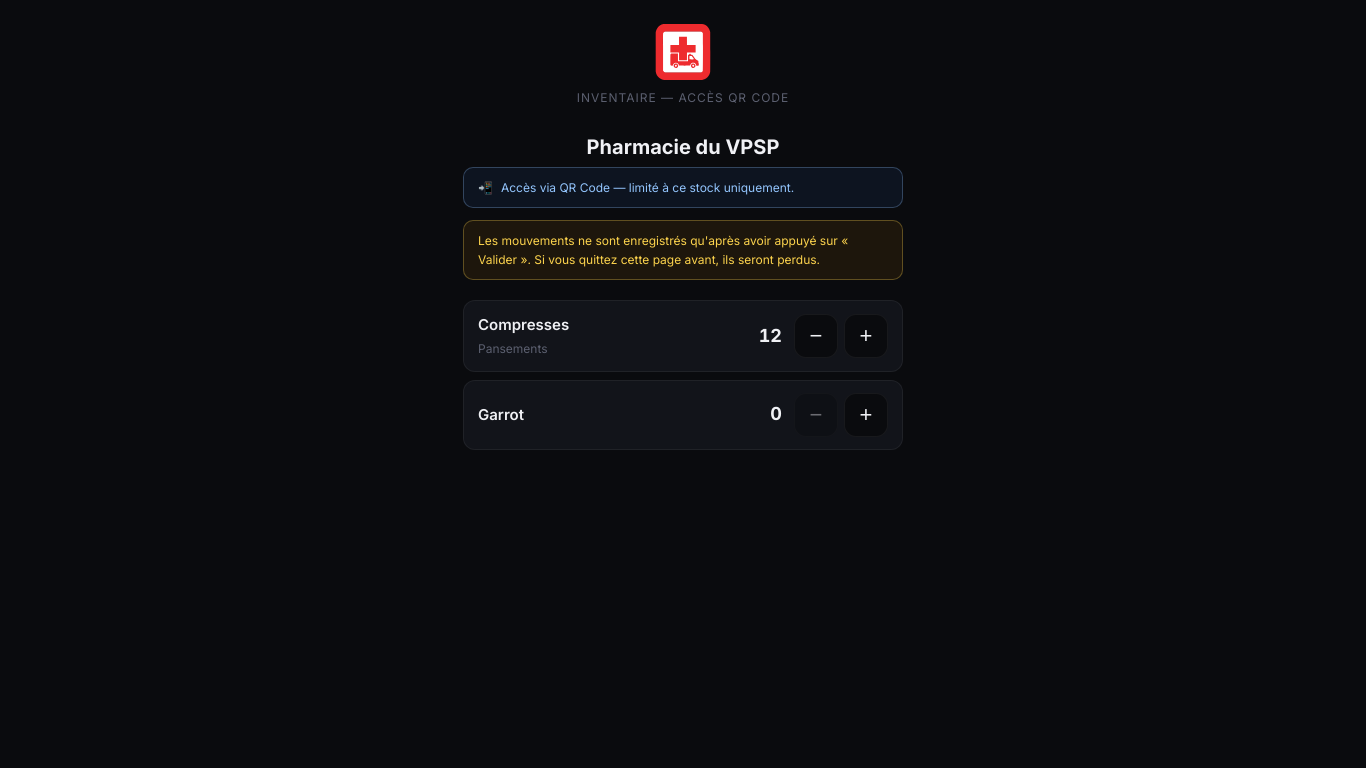
Test: QRStockPage › retire un seul mouvement du récapitulatif et laisse les autres (AC-I5)
Check: the heading "Pharmacie du VPSP" is shown, box [587,135,779,159]
Click the button named "Retirer une unité de Compresses". click: (816, 336)
box: [794,314,838,358]
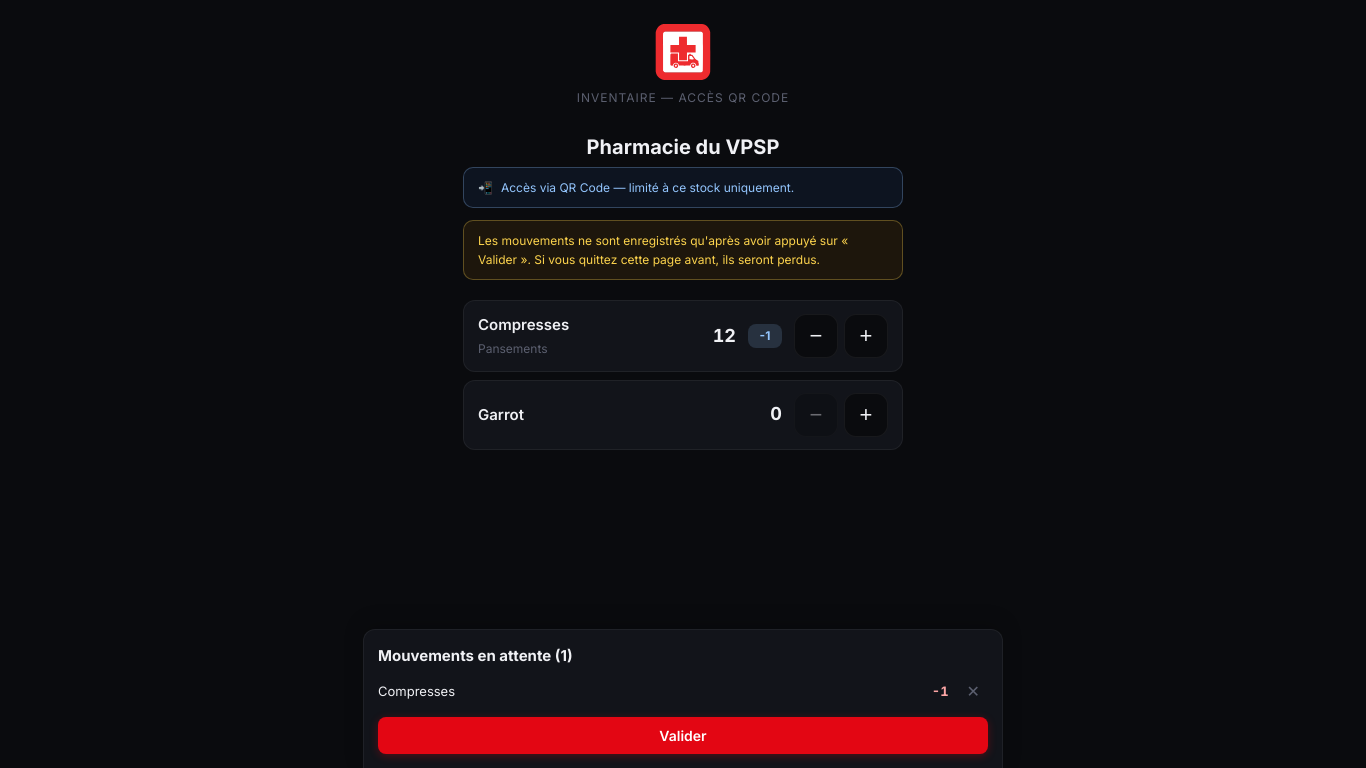
Click the button named "Ajouter une unité de Garrot". click: (866, 414)
box: [844,392,888,436]
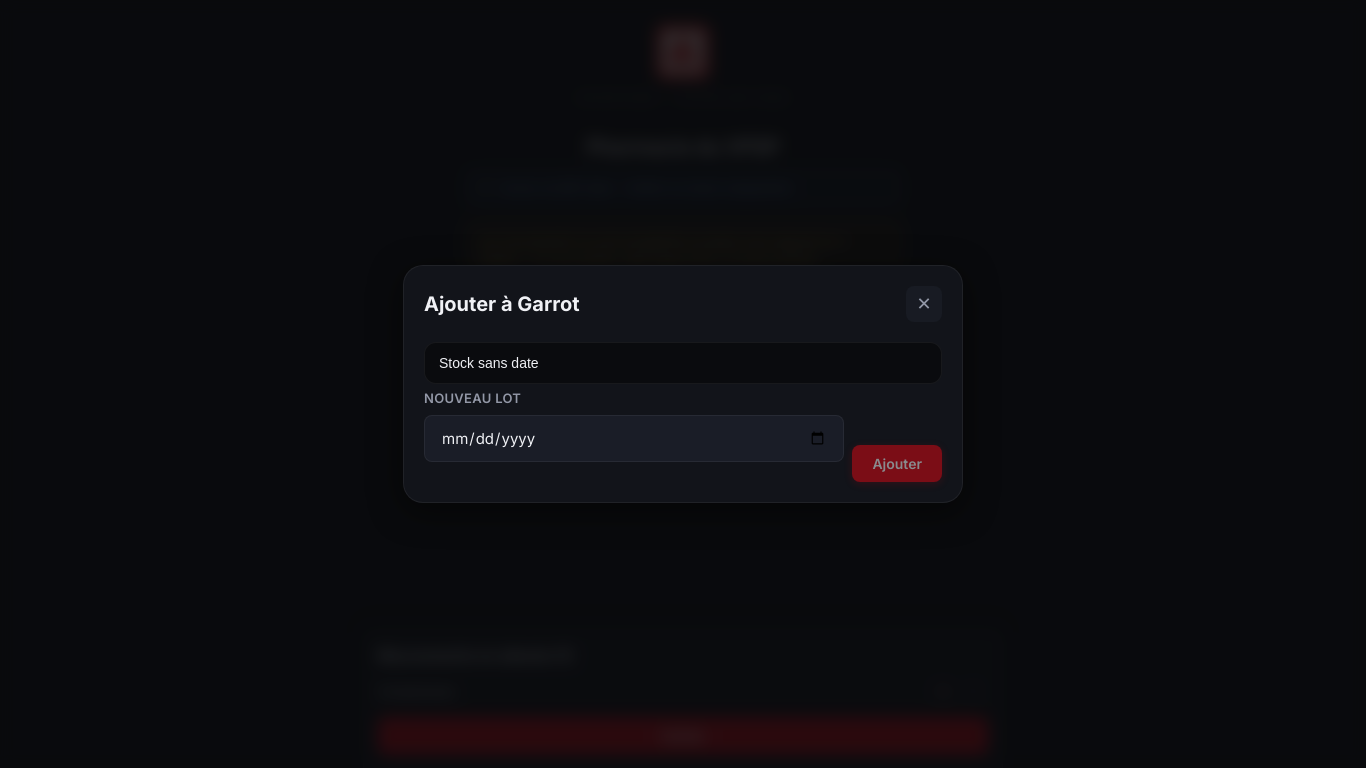
Click the button "Stock sans date". click: (489, 363)
box: [424,342,942,384]
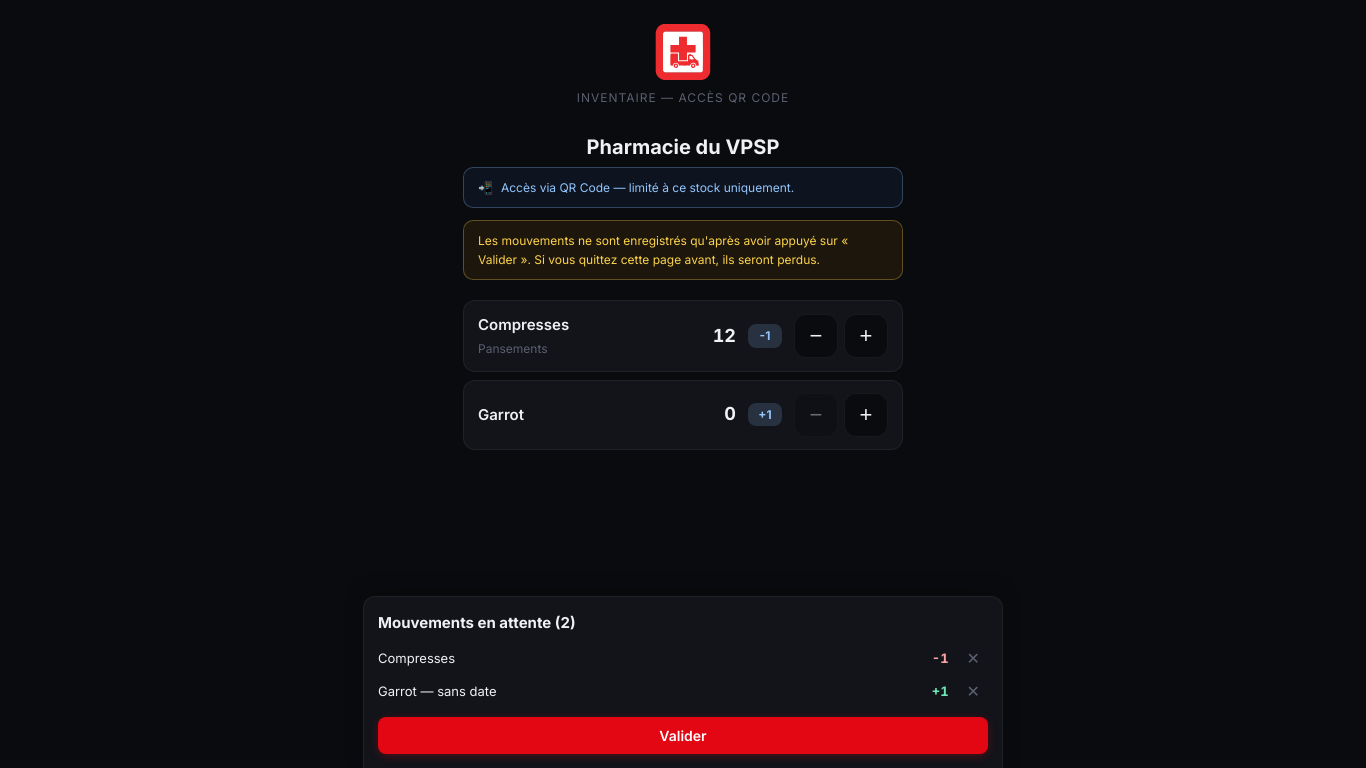
Check: the heading "Mouvements en attente (2)" is shown, box [378,613,576,632]
Click the button named "Annuler le retrait de 1 sur Compresses". click: (973, 658)
box: [959,645,988,672]
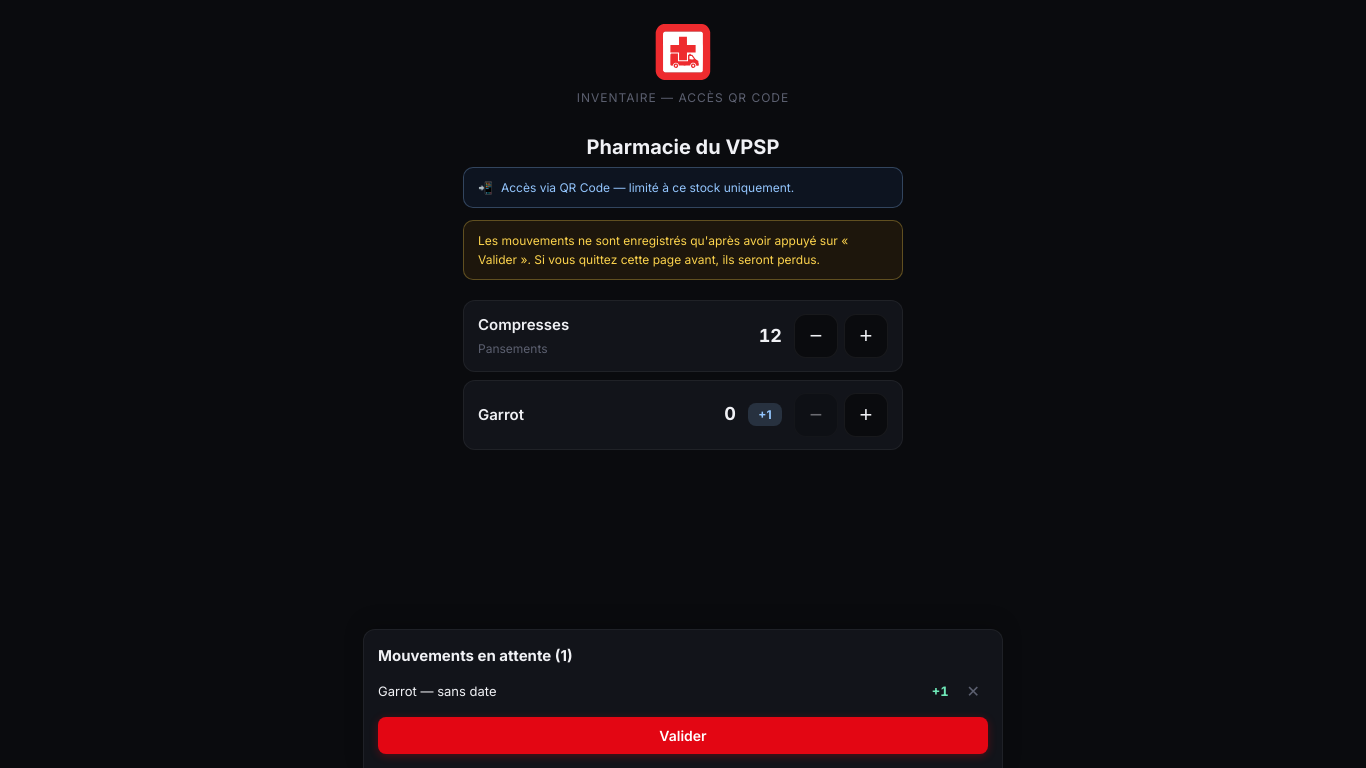
Check: the text "Garrot — sans date" is shown, box [378,683,496,699]
Check: the heading "Mouvements en attente (1)" is shown, box [378,646,573,665]
